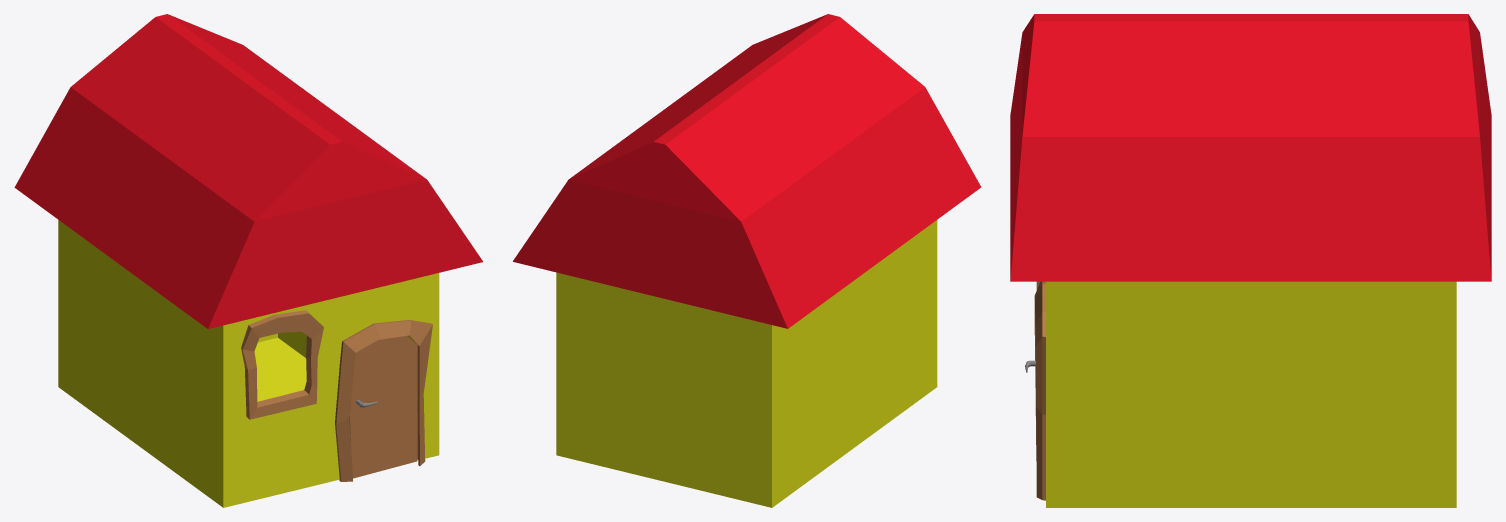
Rendered from Casa_bien.fbx.
3 renders of one model, left to right at view 1: azimuth 30°, elevation 25°; view 2: azimuth 150°, elevation 25°; view 3: azimuth 270°, elevation 25°, orthographic. The views are drawn at different scales.
Visible parts, largest first — view 1: caseta; view 2: caseta; view 3: caseta.
Part boxes in pixels (<box>): caseta: <box>14,14,482,507</box>; caseta: <box>513,14,981,507</box>; caseta: <box>1010,14,1491,507</box>.
Size of the model in its own units: 1071 by 1282 by 1303.
